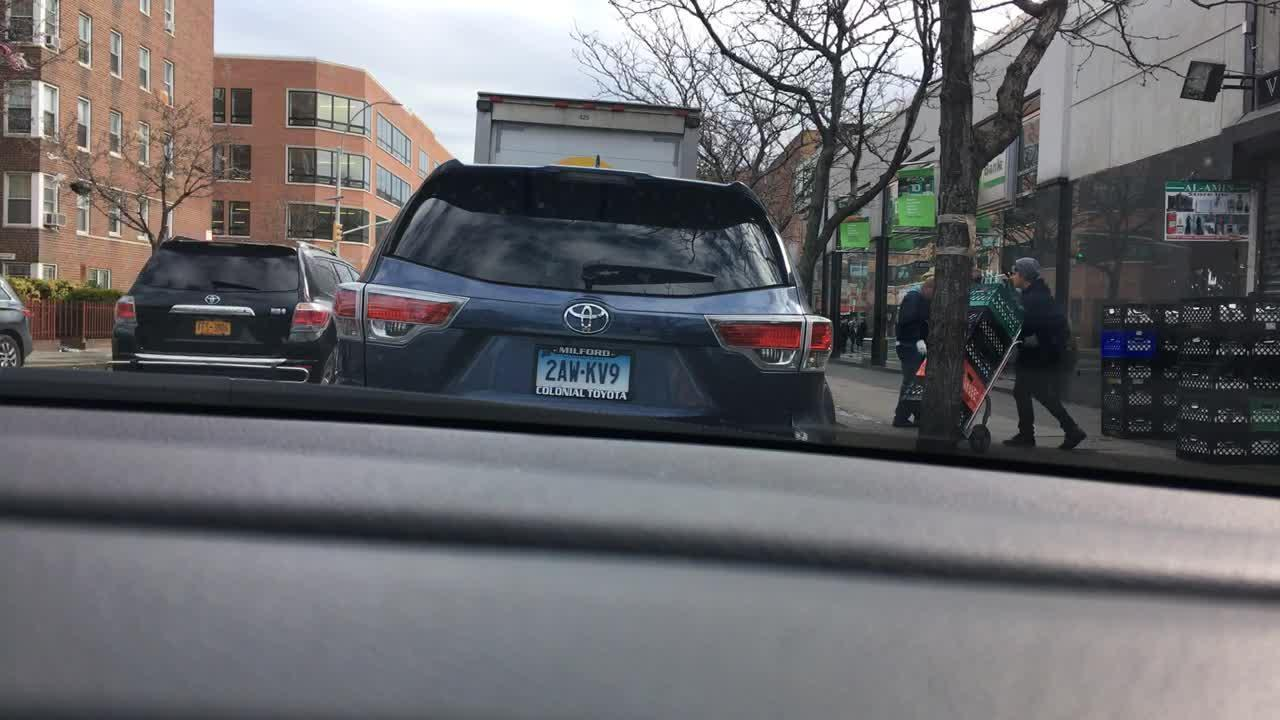Toyota: (552, 288, 624, 345), (197, 288, 231, 315)
